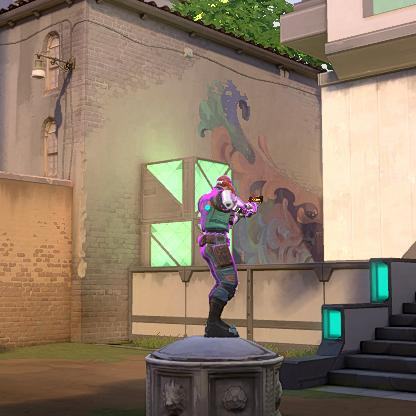enemyBody: (209, 191, 225, 224)
enemyHead: (220, 179, 228, 188)
